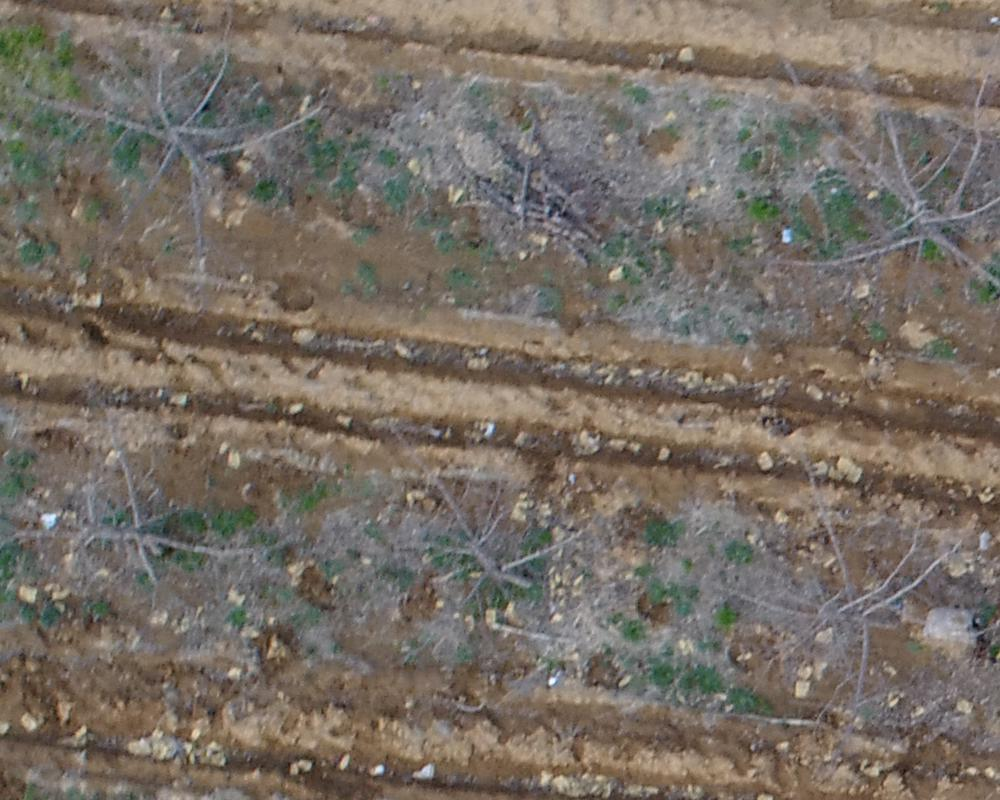apple: (17, 15, 312, 249), (725, 452, 967, 710), (781, 65, 990, 323), (10, 427, 277, 624), (382, 428, 615, 644), (419, 111, 644, 269)
